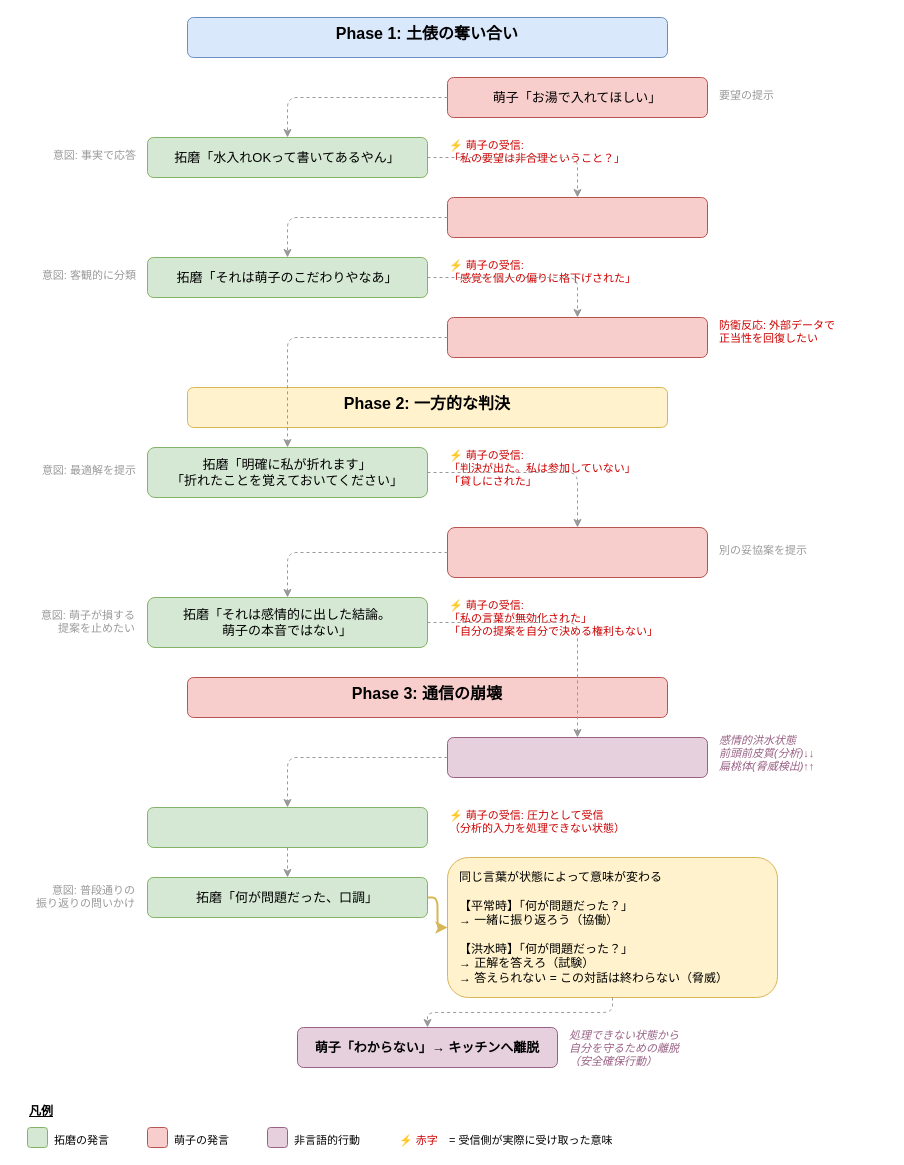
Some shapes in this 904 by 1165 pixel diagram are drawn without their labels. The shapes that lost their labels are listed below. From the top down, each one's centre as x and y in pixels, then its label:
the point at 577,217: 萌子「水道水で作るん違うくない」
the point at 577,337: 萌子「調べてみようや」
the point at 577,552: 萌子「拓磨が作るときは水でいいやん。 時給換算2分にしといて」
the point at 577,757: 萌子 泣き出す
the point at 287,827: 拓磨「合わせれる側が合わせるしかない」
